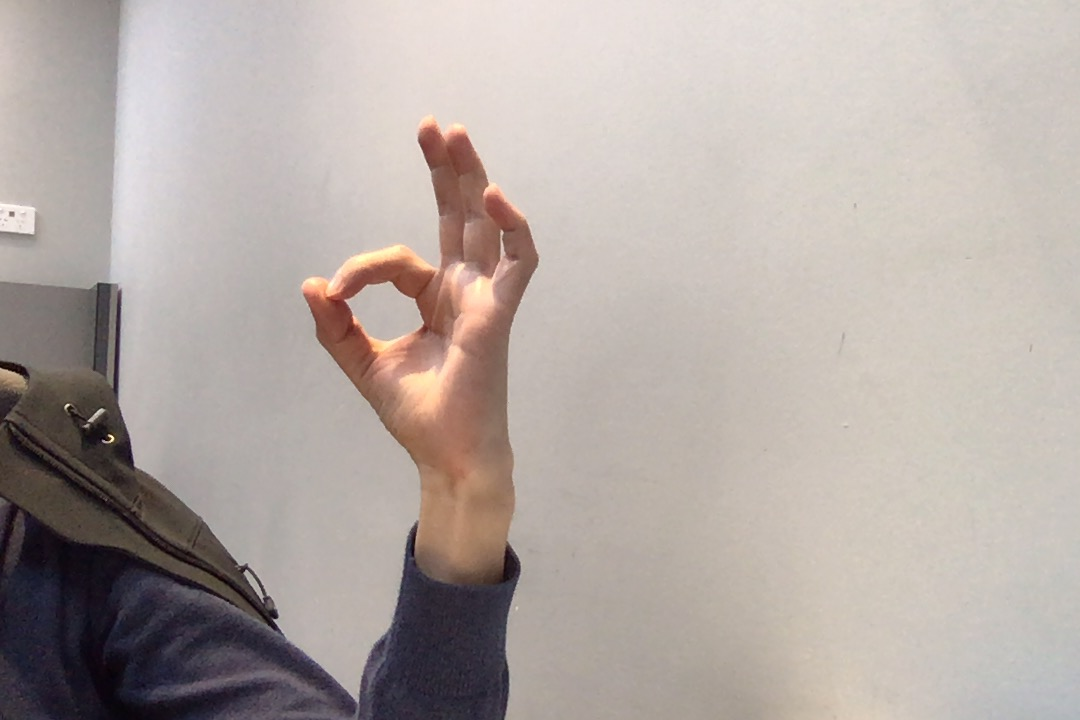oksign: (290, 108, 551, 479)
